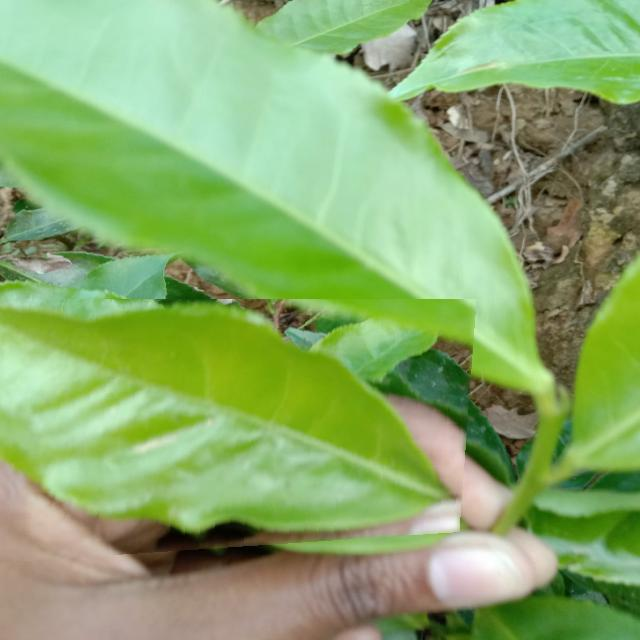Category C(4-7 days): (0, 299, 479, 564)
